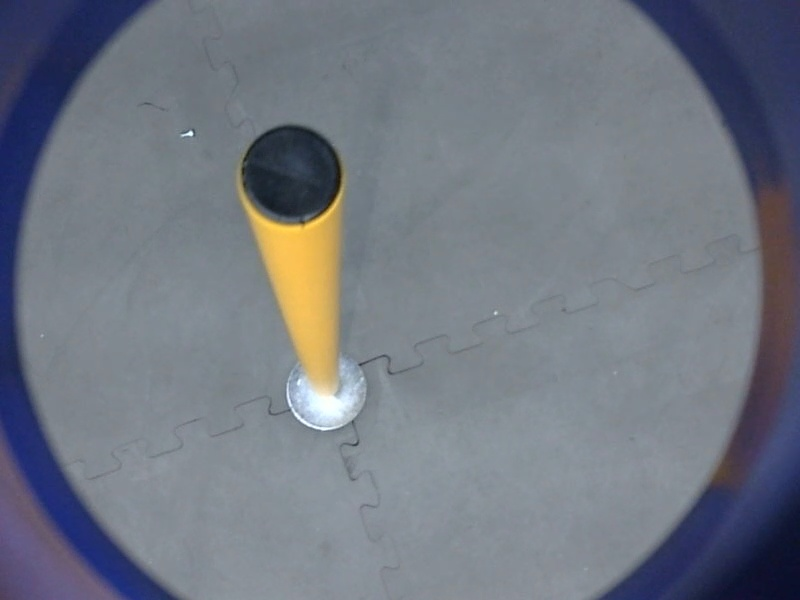tip: (232, 120, 349, 230)
